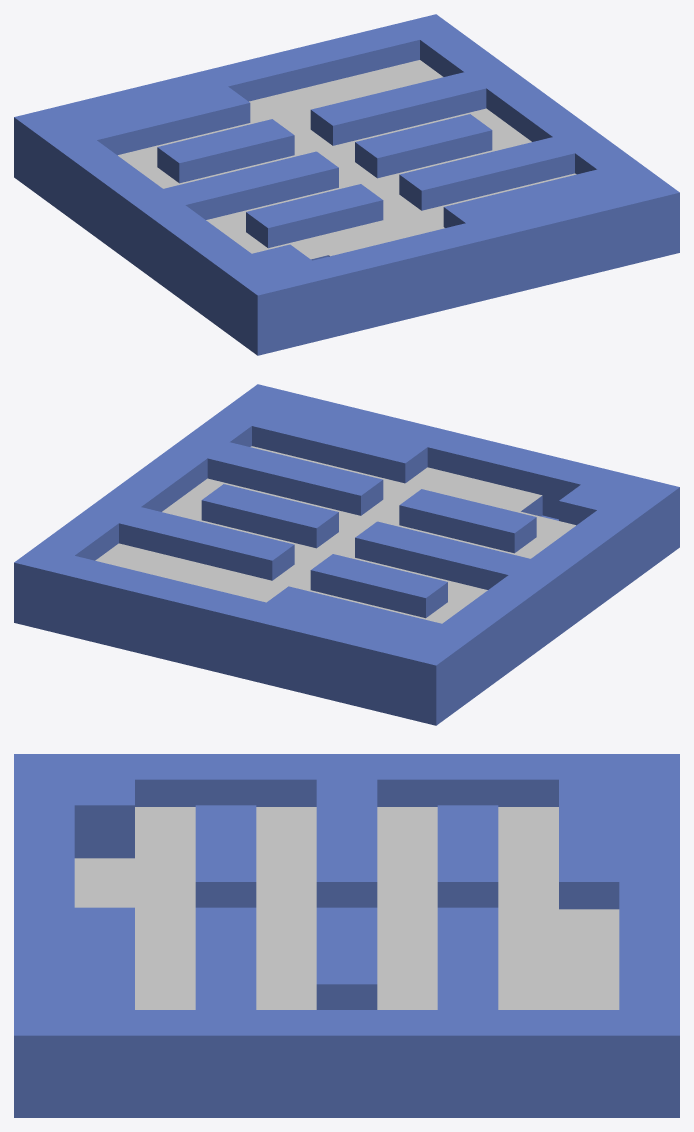
The model's file is 019_platform.fbx.
3 views of the same model, one above another, from view 1: azimuth 30°, elevation 25°; view 2: azimuth 150°, elevation 25°; view 3: azimuth 270°, elevation 25° (orthographic). The views are drawn at different scales.
Visible parts, largest first — view 1: Cube; view 2: Cube; view 3: Cube.
Boxes of the visible parts, box(x1,y1,x2,y2) form: Cube: box(14, 14, 679, 355); Cube: box(14, 384, 679, 725); Cube: box(14, 754, 679, 1117).
Bounding box in the file's own units: 1100 × 150 × 1100.
